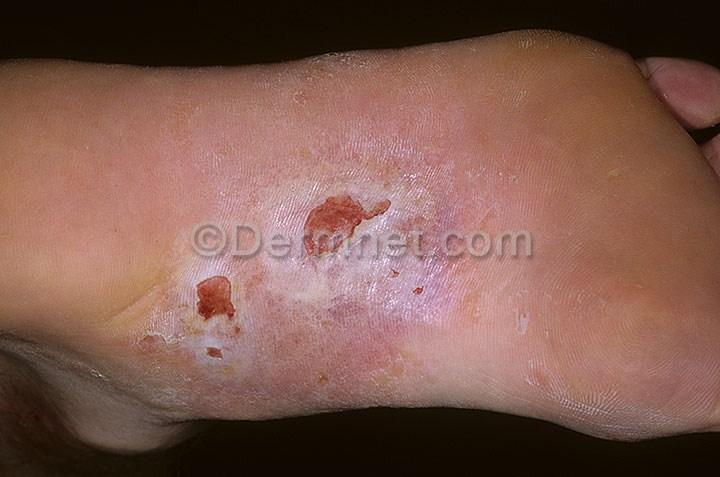Eczema: (131, 242, 253, 380), (280, 170, 423, 275), (332, 264, 454, 347), (258, 302, 334, 408), (183, 155, 277, 237), (333, 312, 412, 403), (416, 182, 506, 257), (113, 161, 192, 241), (247, 101, 333, 171), (391, 126, 485, 188), (160, 86, 244, 153), (319, 107, 405, 169), (247, 249, 330, 312), (468, 80, 538, 153), (474, 156, 552, 219), (450, 258, 504, 335), (381, 80, 453, 130), (401, 50, 484, 93), (317, 51, 394, 93), (250, 67, 317, 102), (325, 86, 389, 105), (499, 27, 540, 55)
